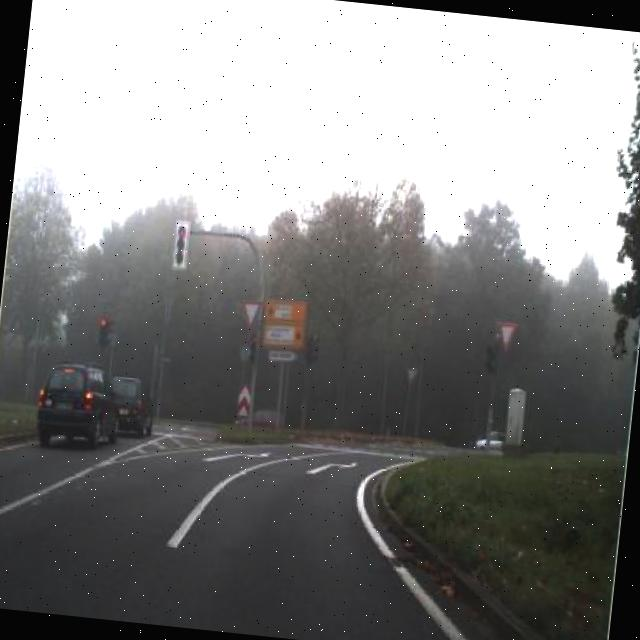Ustap pierwszenstwa: (238, 296, 264, 331), (492, 319, 518, 354), (402, 364, 422, 388)
